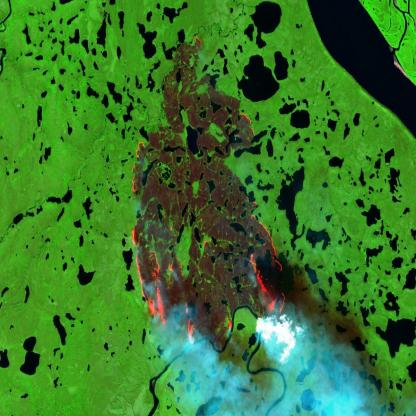fire: (126, 30, 290, 356)
